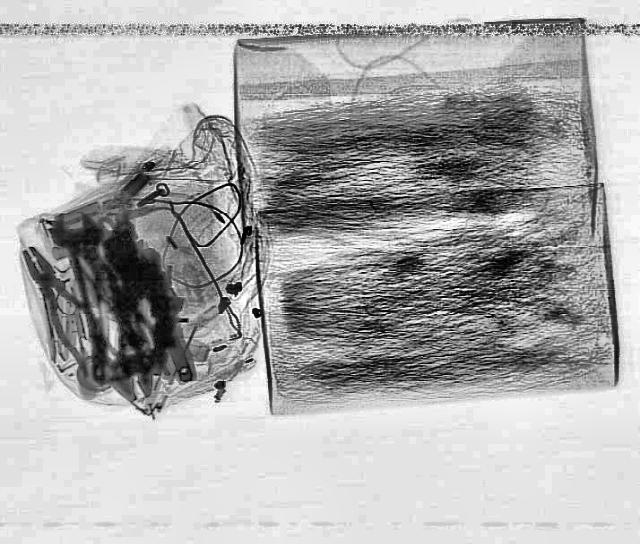Pliers: (5, 240, 124, 380)
Wrench: (43, 208, 157, 348)
